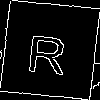R: (25, 25, 70, 75)
